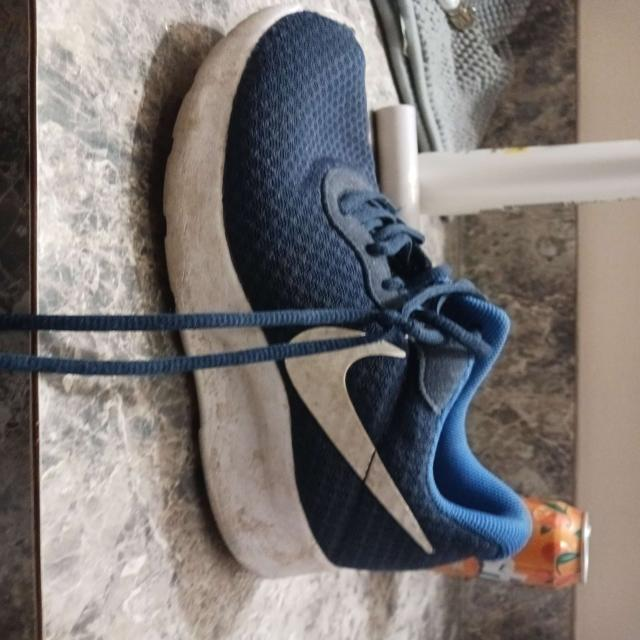shoes: (160, 3, 536, 580)
